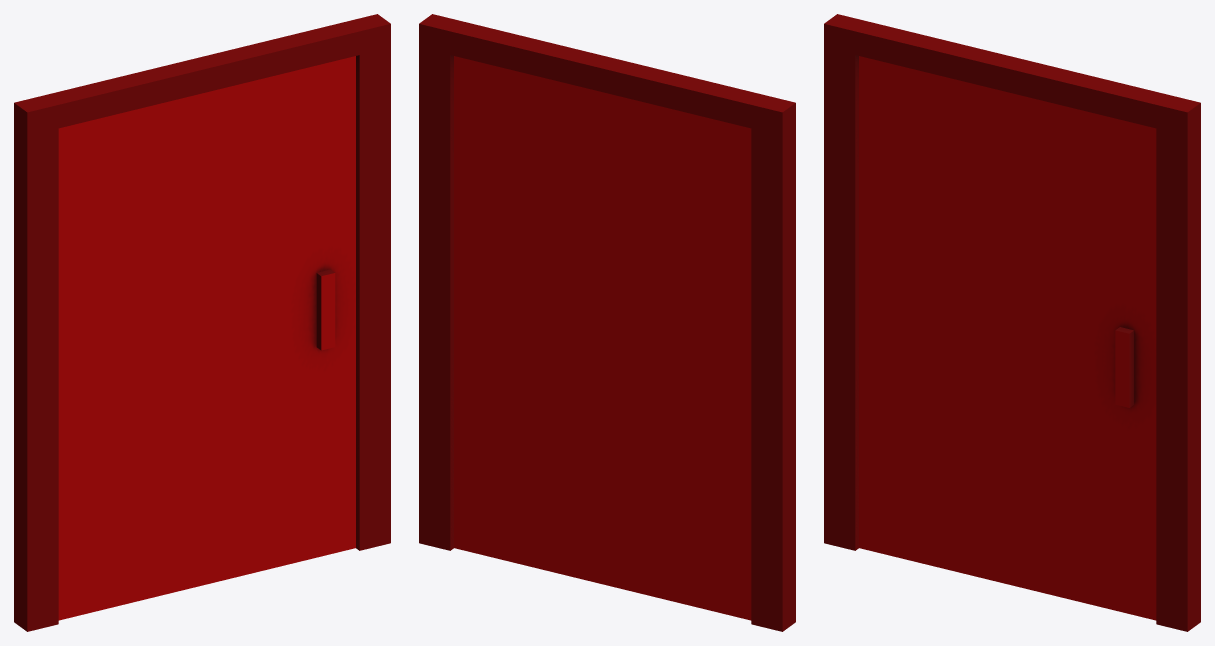
Rendered from door.fbx.
3 views of the same model, side by side, from view 1: azimuth 30°, elevation 25°; view 2: azimuth 150°, elevation 25°; view 3: azimuth 330°, elevation 25° (orthographic).
Parts seen in each view (by area): view 1: door, frame; view 2: door, frame; view 3: door, frame.
Part boxes in pixels (x1,y1,x2,y2): door: (58,56,355,620); frame: (14,14,390,631); door: (454,56,751,620); frame: (419,14,795,631); door: (859,56,1156,620); frame: (824,14,1200,631).
Size of the model in its own units: 6 by 8.19 by 0.4168.
2 materials, 2 textured.
